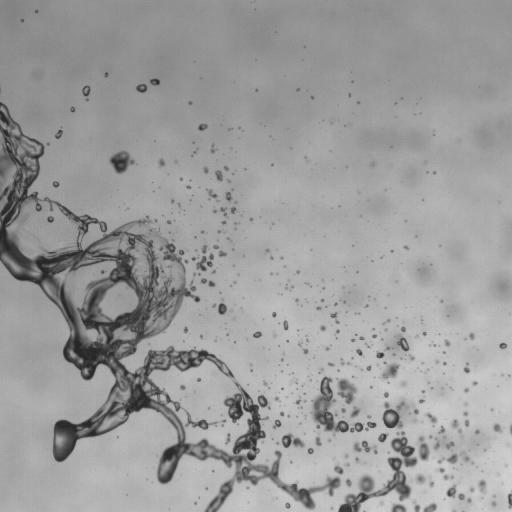droplet: (109, 150, 136, 174), (335, 376, 357, 404), (379, 360, 400, 383), (446, 481, 459, 498), (217, 298, 227, 314), (477, 479, 487, 494), (390, 502, 406, 511), (422, 502, 437, 511), (377, 432, 388, 443), (9, 109, 20, 120), (214, 183, 225, 194), (49, 189, 60, 200), (185, 261, 196, 272), (290, 274, 301, 285), (55, 313, 66, 324), (60, 327, 71, 338), (340, 328, 351, 339), (136, 340, 147, 351), (153, 340, 164, 351), (430, 347, 441, 358), (364, 350, 375, 361), (383, 353, 394, 364), (134, 355, 145, 366), (125, 360, 136, 371), (375, 361, 386, 372), (95, 363, 106, 374), (339, 368, 350, 379), (104, 373, 115, 384), (278, 374, 289, 385), (377, 380, 388, 391), (333, 395, 344, 406), (302, 401, 313, 412), (285, 402, 296, 413), (267, 408, 278, 419), (398, 409, 409, 420), (69, 413, 80, 424), (259, 420, 270, 431), (375, 422, 386, 433), (422, 422, 433, 433), (368, 427, 379, 438), (386, 427, 397, 438), (445, 427, 456, 438), (318, 428, 329, 439), (352, 431, 363, 442), (303, 436, 314, 447), (377, 452, 388, 463), (178, 453, 189, 464), (425, 456, 436, 467), (224, 466, 235, 477), (383, 467, 394, 478), (278, 471, 289, 482), (260, 476, 271, 487), (372, 479, 383, 490), (349, 484, 360, 495), (208, 486, 219, 497), (334, 486, 345, 497), (388, 489, 399, 500), (280, 491, 291, 502), (434, 494, 445, 505), (401, 497, 412, 508), (492, 423, 504, 433), (136, 83, 147, 93), (219, 206, 228, 218), (272, 419, 281, 429), (445, 441, 454, 451), (215, 170, 223, 181), (107, 147, 116, 156), (226, 213, 235, 222), (202, 269, 211, 278), (290, 288, 299, 297), (285, 290, 294, 299), (181, 295, 190, 304), (388, 337, 397, 346), (406, 337, 415, 346), (354, 339, 363, 348), (174, 342, 183, 351), (323, 367, 332, 376), (329, 381, 338, 390), (311, 388, 320, 397), (423, 391, 432, 400), (351, 397, 360, 406), (344, 403, 353, 412), (139, 406, 148, 415), (257, 406, 266, 415), (417, 411, 426, 420), (356, 413, 365, 422), (346, 416, 355, 425), (499, 420, 508, 429), (277, 426, 286, 435), (168, 436, 177, 445), (425, 438, 434, 447), (450, 445, 459, 454), (427, 448, 436, 457), (411, 449, 420, 458), (317, 476, 326, 485), (443, 479, 452, 488), (231, 481, 240, 490), (284, 493, 293, 502), (483, 493, 492, 502), (449, 495, 458, 504), (358, 501, 367, 510), (463, 362, 470, 373), (290, 376, 298, 385), (210, 143, 217, 153), (217, 505, 228, 511), (297, 505, 308, 511), (499, 505, 510, 511), (150, 78, 159, 85), (198, 123, 207, 130), (158, 158, 165, 167), (225, 192, 232, 201), (253, 331, 262, 338), (438, 425, 445, 434), (230, 206, 237, 214), (499, 342, 507, 349), (398, 380, 406, 387), (364, 342, 373, 348), (345, 478, 351, 487), (283, 320, 288, 330), (307, 447, 314, 454), (458, 493, 465, 500), (107, 163, 114, 170), (125, 163, 132, 170), (120, 170, 127, 177), (26, 187, 33, 194), (218, 192, 225, 199), (225, 201, 232, 208), (74, 209, 81, 216), (158, 217, 165, 224), (160, 230, 167, 237), (218, 232, 225, 239), (211, 248, 218, 255), (184, 274, 191, 281), (23, 279, 30, 286), (193, 279, 200, 286), (31, 282, 38, 289), (364, 334, 371, 341), (59, 338, 66, 345), (289, 338, 296, 345), (383, 350, 390, 357), (438, 354, 445, 361), (119, 357, 126, 364), (333, 360, 340, 367), (67, 362, 74, 369), (380, 364, 387, 371), (337, 372, 344, 379), (347, 377, 354, 384), (468, 384, 475, 391), (266, 395, 273, 402), (388, 402, 395, 409), (415, 402, 422, 409), (327, 405, 334, 412), (129, 410, 136, 417), (57, 413, 64, 420), (80, 414, 87, 421), (352, 415, 359, 422), (332, 416, 339, 423), (310, 419, 317, 426), (457, 420, 464, 427), (47, 422, 54, 429), (443, 422, 450, 429), (468, 423, 475, 430), (382, 426, 389, 433), (325, 429, 332, 436), (86, 435, 93, 442), (384, 436, 391, 443), (75, 438, 82, 445), (255, 438, 262, 445), (406, 439, 413, 446), (439, 439, 446, 446), (309, 441, 316, 448), (277, 444, 284, 451), (300, 446, 307, 453), (46, 449, 53, 456), (156, 449, 163, 456), (444, 450, 451, 457), (394, 451, 401, 458), (67, 452, 74, 459), (347, 455, 354, 462), (456, 455, 463, 462), (206, 456, 213, 463), (216, 458, 223, 465), (251, 458, 258, 465), (441, 460, 448, 467), (266, 461, 273, 468), (399, 464, 406, 471), (172, 470, 179, 477), (330, 470, 337, 477), (150, 473, 157, 480), (338, 473, 345, 480), (476, 473, 483, 480), (243, 479, 250, 486), (471, 480, 478, 487), (484, 482, 491, 489), (408, 490, 415, 497), (463, 490, 470, 497), (309, 492, 316, 499), (225, 494, 232, 501), (338, 497, 345, 504), (385, 503, 392, 510), (46, 216, 54, 222), (506, 340, 511, 349), (405, 506, 414, 511), (488, 506, 497, 511), (52, 181, 59, 187), (444, 339, 450, 346), (408, 354, 414, 361), (318, 367, 324, 374), (273, 396, 280, 402), (469, 485, 475, 492), (234, 222, 239, 230), (428, 342, 436, 347), (464, 419, 469, 427), (320, 325, 326, 331), (491, 501, 497, 507), (212, 206, 217, 213), (183, 326, 188, 333), (70, 106, 75, 112), (370, 161, 375, 167), (203, 167, 208, 173), (403, 245, 409, 250), (316, 306, 322, 311), (462, 411, 468, 416), (478, 495, 484, 500), (379, 500, 384, 506), (285, 502, 290, 508), (401, 325, 405, 332), (471, 381, 478, 385), (224, 166, 229, 171), (221, 220, 226, 225), (264, 248, 269, 253), (366, 365, 371, 370), (180, 385, 185, 390), (464, 387, 469, 392), (384, 392, 389, 397), (341, 408, 346, 413), (279, 411, 284, 416), (474, 429, 479, 434), (137, 79, 142, 84), (145, 81, 150, 86), (87, 93, 92, 98), (18, 121, 23, 126), (193, 123, 198, 128), (202, 128, 207, 133), (198, 129, 203, 134), (36, 136, 41, 141), (41, 140, 46, 145), (43, 146, 48, 151), (37, 156, 42, 161), (163, 158, 168, 163), (154, 161, 159, 166), (160, 165, 165, 170), (228, 167, 233, 172), (38, 168, 43, 173), (220, 169, 225, 174), (203, 191, 208, 196), (230, 192, 235, 197), (36, 193, 41, 198), (49, 195, 54, 200), (172, 201, 177, 206), (215, 205, 220, 210), (68, 206, 73, 211), (225, 208, 230, 213), (89, 212, 94, 217), (139, 214, 144, 219), (148, 214, 153, 219), (167, 215, 172, 220), (220, 215, 225, 220), (97, 216, 102, 221), (148, 222, 153, 227), (218, 223, 223, 228), (105, 229, 110, 234), (216, 241, 221, 246), (191, 251, 196, 256), (198, 251, 203, 256), (204, 252, 209, 257), (265, 252, 270, 257), (180, 254, 185, 259), (273, 255, 278, 260), (195, 257, 200, 262), (280, 259, 285, 264), (196, 267, 201, 272), (3, 268, 8, 273), (9, 275, 14, 280), (233, 275, 238, 280), (319, 281, 324, 286), (184, 283, 189, 288), (208, 285, 213, 290), (279, 287, 284, 292), (190, 290, 195, 295), (40, 292, 45, 297), (198, 294, 203, 299), (215, 299, 220, 304), (222, 299, 227, 304), (49, 301, 54, 306), (317, 301, 322, 306), (337, 301, 342, 306), (225, 304, 230, 309), (213, 306, 218, 311), (224, 309, 229, 314), (218, 313, 223, 318), (335, 314, 340, 319), (168, 322, 173, 327), (384, 322, 389, 327), (278, 323, 283, 328), (334, 323, 339, 328), (315, 326, 320, 331), (164, 327, 169, 332), (250, 328, 255, 333), (318, 329, 323, 334), (322, 329, 327, 334), (372, 329, 377, 334), (158, 331, 163, 336), (401, 332, 406, 337), (473, 332, 478, 337), (418, 333, 423, 338), (256, 336, 261, 341), (394, 336, 399, 341), (447, 336, 452, 341), (439, 340, 444, 345), (301, 343, 306, 348), (396, 345, 401, 350), (442, 345, 447, 350), (184, 346, 189, 351), (195, 346, 200, 351), (360, 347, 365, 352), (501, 347, 506, 352), (206, 348, 211, 353), (406, 349, 411, 354), (58, 351, 63, 356), (215, 353, 220, 358), (343, 357, 348, 362), (378, 357, 383, 362), (411, 359, 416, 364), (280, 361, 285, 366), (437, 361, 442, 366), (460, 362, 465, 367), (420, 364, 425, 369), (467, 364, 472, 369), (396, 367, 401, 372), (75, 368, 80, 373), (460, 370, 465, 375), (317, 375, 322, 380), (387, 376, 392, 381), (84, 379, 89, 384), (297, 379, 302, 384), (315, 382, 320, 387), (443, 385, 448, 390), (400, 386, 405, 391), (424, 386, 429, 391), (105, 387, 110, 392), (246, 389, 251, 394), (352, 392, 357, 397), (263, 393, 268, 398), (418, 393, 423, 398), (300, 394, 305, 399), (384, 396, 389, 401), (404, 398, 409, 403), (252, 399, 257, 404), (298, 400, 303, 405), (381, 406, 386, 411), (462, 406, 467, 411), (408, 407, 413, 412), (430, 410, 435, 415), (410, 412, 415, 417), (289, 414, 294, 419), (465, 414, 470, 419), (277, 415, 282, 420), (298, 415, 303, 420), (398, 416, 403, 421), (448, 416, 453, 421), (369, 417, 374, 422), (425, 417, 430, 422), (468, 420, 473, 425), (166, 421, 171, 426), (498, 421, 503, 426), (117, 424, 122, 429), (488, 424, 493, 429), (259, 425, 264, 430), (435, 425, 440, 430), (400, 426, 405, 431), (504, 426, 509, 431), (112, 427, 117, 432), (452, 427, 457, 432), (478, 427, 483, 432), (360, 428, 365, 433), (345, 429, 350, 434), (106, 430, 111, 435), (336, 430, 341, 435), (493, 430, 498, 435), (416, 431, 421, 436), (312, 432, 317, 437), (403, 432, 408, 437), (477, 432, 482, 437), (298, 435, 303, 440), (276, 436, 281, 441), (319, 437, 324, 442), (444, 438, 449, 443), (376, 440, 381, 445), (367, 441, 372, 446), (289, 442, 294, 447), (303, 444, 308, 449), (368, 449, 373, 454), (353, 450, 358, 455), (465, 451, 470, 456), (272, 454, 277, 459), (49, 455, 54, 460), (469, 455, 474, 460), (416, 457, 421, 462), (54, 460, 59, 465), (465, 460, 470, 465), (329, 463, 334, 468), (341, 465, 346, 470), (438, 472, 443, 477), (424, 478, 429, 483), (484, 479, 489, 484), (474, 485, 479, 490), (323, 487, 328, 492), (442, 487, 447, 492), (441, 490, 446, 495), (454, 490, 459, 495), (208, 495, 213, 500), (378, 495, 383, 500), (445, 495, 450, 500), (192, 496, 197, 501), (462, 497, 467, 502), (503, 497, 508, 502), (334, 505, 339, 510), (358, 336, 364, 340), (328, 362, 334, 366), (344, 462, 350, 466), (467, 497, 471, 503), (0, 131, 3, 138), (0, 262, 3, 269), (104, 72, 108, 77), (186, 185, 191, 189), (170, 198, 174, 203), (166, 220, 171, 224), (295, 270, 300, 274), (272, 312, 276, 317), (422, 331, 426, 336), (372, 334, 377, 338), (414, 334, 419, 338), (350, 338, 355, 342), (344, 453, 348, 458), (249, 217, 253, 221), (320, 298, 324, 302), (272, 333, 276, 337), (442, 361, 446, 365), (463, 402, 467, 406), (367, 414, 371, 418), (442, 435, 446, 439), (177, 202, 180, 207), (270, 255, 273, 260), (364, 304, 369, 307), (214, 337, 217, 342), (196, 378, 201, 381), (216, 508, 221, 511), (284, 508, 289, 511), (418, 508, 423, 511), (433, 508, 438, 511), (456, 508, 461, 511), (348, 93, 351, 97), (310, 96, 314, 99), (432, 171, 436, 174), (179, 177, 183, 180), (227, 179, 231, 182), (200, 230, 204, 233), (390, 249, 393, 253), (233, 280, 236, 284), (212, 303, 215, 307), (334, 302, 337, 306), (442, 351, 446, 354), (435, 360, 439, 363), (375, 363, 379, 366), (328, 438, 331, 442), (194, 501, 197, 505), (200, 334, 202, 339), (35, 10, 38, 13), (20, 19, 23, 22), (296, 88, 299, 91), (188, 101, 191, 104), (46, 142, 49, 145), (174, 160, 177, 163), (270, 163, 273, 166), (438, 244, 441, 247), (280, 256, 283, 259), (270, 272, 273, 275), (322, 286, 325, 289), (440, 299, 443, 302), (230, 309, 233, 312), (384, 328, 387, 331), (286, 339, 289, 342), (392, 353, 395, 356), (421, 361, 424, 364), (249, 363, 252, 366), (337, 369, 340, 372), (490, 408, 493, 411), (287, 414, 290, 417), (429, 435, 432, 438), (483, 448, 486, 451), (332, 457, 335, 460), (211, 469, 214, 472), (246, 486, 249, 489), (492, 494, 495, 497), (330, 506, 333, 509), (34, 6, 37, 9), (31, 9, 34, 12), (37, 9, 40, 12), (34, 12, 37, 15), (20, 15, 23, 18), (23, 18, 26, 21), (17, 19, 20, 22), (20, 21, 23, 24), (107, 71, 110, 74), (101, 72, 104, 75), (156, 76, 159, 79), (158, 80, 161, 83), (83, 82, 86, 85), (80, 84, 83, 87), (155, 84, 158, 87), (294, 85, 297, 88), (0, 87, 3, 90), (252, 87, 255, 90), (257, 87, 260, 90), (136, 90, 139, 93), (256, 90, 259, 93), (296, 90, 299, 93), (310, 92, 313, 95), (345, 93, 348, 96), (350, 93, 353, 96), (83, 95, 86, 98), (308, 97, 311, 100), (356, 97, 359, 100), (189, 98, 192, 101), (1, 100, 4, 103), (86, 100, 89, 103), (359, 100, 362, 103), (186, 103, 189, 106), (190, 103, 193, 106), (356, 103, 359, 106), (394, 103, 397, 106), (6, 105, 9, 108), (73, 105, 76, 108), (67, 108, 70, 111), (71, 111, 74, 114), (228, 124, 231, 127), (240, 126, 243, 129), (60, 127, 63, 130), (55, 128, 58, 131), (229, 129, 232, 132), (238, 129, 241, 132), (21, 130, 24, 133), (60, 134, 63, 137), (29, 135, 32, 138), (432, 135, 435, 138), (52, 136, 55, 139), (208, 145, 211, 148), (192, 147, 195, 150), (207, 149, 210, 152), (189, 150, 192, 153), (214, 150, 217, 153), (192, 153, 195, 156), (306, 156, 309, 159), (133, 160, 136, 163), (269, 160, 272, 163), (273, 163, 276, 166), (226, 164, 229, 167), (243, 164, 246, 167), (200, 168, 203, 171), (429, 170, 432, 173), (433, 173, 436, 176), (213, 174, 216, 177), (176, 177, 179, 180), (56, 179, 59, 182), (188, 182, 191, 185), (57, 185, 60, 188), (52, 186, 55, 189), (183, 186, 186, 189), (207, 186, 210, 189), (186, 188, 189, 191), (227, 188, 230, 191), (189, 195, 192, 198), (210, 196, 213, 199), (423, 198, 426, 201), (167, 199, 170, 202), (179, 202, 182, 205), (233, 203, 236, 206), (210, 207, 213, 210), (180, 209, 183, 212), (233, 210, 236, 213), (220, 211, 223, 214), (145, 212, 148, 215), (212, 212, 215, 215), (246, 216, 249, 219), (135, 217, 138, 220), (126, 219, 129, 222), (156, 219, 159, 222), (235, 219, 238, 222), (251, 219, 254, 222), (170, 220, 173, 223), (248, 220, 251, 223), (121, 221, 124, 224), (268, 222, 271, 225), (167, 223, 170, 226), (222, 223, 225, 226), (235, 224, 238, 227), (199, 227, 202, 230), (214, 229, 217, 232), (219, 231, 222, 234), (198, 232, 201, 235), (228, 235, 231, 238), (168, 240, 171, 243), (406, 244, 409, 247), (264, 245, 267, 248), (389, 246, 392, 249), (268, 247, 271, 250), (182, 248, 185, 251), (403, 248, 406, 251), (222, 249, 225, 252), (262, 249, 265, 252), (388, 251, 391, 254), (391, 251, 394, 254), (278, 253, 281, 256), (378, 253, 381, 256), (220, 255, 223, 258), (282, 255, 285, 258), (382, 255, 385, 258), (268, 258, 271, 261), (379, 258, 382, 261), (180, 259, 183, 262), (283, 267, 286, 270), (298, 267, 301, 270), (342, 267, 345, 270), (215, 269, 218, 272), (292, 270, 295, 273), (299, 270, 302, 273), (272, 272, 275, 275), (295, 273, 298, 276), (211, 279, 214, 282), (284, 279, 287, 282), (305, 279, 308, 282), (230, 281, 233, 284), (191, 282, 194, 285), (282, 283, 285, 286), (287, 283, 290, 286), (293, 284, 296, 287), (305, 284, 308, 287), (311, 284, 314, 287), (324, 285, 327, 288), (228, 286, 231, 289), (291, 287, 294, 290), (220, 289, 223, 292), (285, 289, 288, 292), (321, 289, 324, 292), (293, 295, 296, 298), (321, 295, 324, 298), (369, 296, 372, 299), (439, 296, 442, 299), (341, 297, 344, 300), (291, 298, 294, 301), (436, 299, 439, 302), (297, 300, 300, 303), (345, 300, 348, 303), (365, 300, 368, 303), (442, 300, 445, 303), (195, 301, 198, 304), (293, 301, 296, 304), (331, 301, 334, 304), (209, 302, 212, 305), (362, 302, 365, 305), (439, 302, 442, 305), (365, 306, 368, 309), (272, 308, 275, 311), (316, 309, 319, 312), (355, 309, 358, 312), (331, 310, 334, 313), (359, 311, 362, 314), (275, 313, 278, 316), (327, 313, 330, 316), (355, 313, 358, 316), (269, 314, 272, 317), (421, 316, 424, 319), (331, 317, 334, 320), (383, 318, 386, 321), (389, 319, 392, 322), (417, 319, 420, 322), (170, 320, 173, 323), (422, 320, 425, 323), (223, 324, 226, 327), (371, 324, 374, 327), (296, 325, 299, 328), (398, 325, 401, 328), (181, 326, 184, 329), (186, 326, 189, 329), (287, 326, 290, 329), (257, 328, 260, 331), (404, 328, 407, 331), (422, 328, 425, 331), (225, 329, 228, 332), (284, 329, 287, 332), (332, 329, 335, 332), (186, 330, 189, 333), (260, 330, 263, 333), (294, 330, 297, 333), (297, 330, 300, 333), (354, 330, 357, 333), (435, 330, 438, 333), (425, 331, 428, 334), (228, 332, 231, 335), (335, 333, 338, 336), (435, 333, 438, 336), (196, 334, 199, 337), (202, 334, 205, 337), (424, 334, 427, 337), (225, 335, 228, 338), (352, 335, 355, 338), (307, 336, 310, 339), (216, 337, 219, 340), (372, 337, 375, 340), (405, 337, 408, 340), (288, 338, 291, 341), (302, 338, 305, 341), (230, 339, 233, 342), (359, 339, 362, 342), (235, 340, 238, 343), (283, 340, 286, 343), (428, 340, 431, 343), (433, 340, 436, 343), (498, 340, 501, 343), (504, 340, 507, 343), (294, 341, 297, 344), (367, 342, 370, 345), (386, 343, 389, 346), (496, 343, 499, 346), (279, 344, 282, 347), (430, 344, 433, 347), (435, 344, 438, 347), (408, 345, 411, 348), (323, 349, 326, 352), (327, 349, 330, 352), (379, 349, 382, 352), (307, 350, 310, 353), (361, 351, 364, 354), (439, 351, 442, 354), (355, 352, 358, 355), (373, 352, 376, 355), (280, 354, 283, 357), (277, 357, 280, 360), (349, 359, 352, 362), (278, 360, 281, 363), (330, 360, 333, 363), (366, 362, 369, 365), (343, 363, 346, 366), (442, 364, 445, 367), (250, 365, 253, 368), (328, 365, 331, 368), (427, 365, 430, 368), (370, 366, 373, 369), (363, 367, 366, 370), (246, 368, 249, 371), (252, 368, 255, 371), (416, 368, 419, 371), (230, 369, 233, 372), (282, 370, 285, 373), (288, 370, 291, 373), (293, 370, 296, 373), (366, 370, 369, 373), (426, 370, 429, 373), (249, 371, 252, 374), (278, 371, 281, 374), (420, 371, 423, 374), (292, 373, 295, 376), (289, 374, 292, 377), (326, 374, 329, 377), (504, 374, 507, 377), (309, 375, 312, 378), (474, 378, 477, 381), (265, 379, 268, 382), (260, 380, 263, 383), (292, 382, 295, 385), (369, 382, 372, 385), (267, 383, 270, 386), (428, 383, 431, 386), (447, 383, 450, 386), (475, 383, 478, 386), (298, 385, 301, 388), (366, 385, 369, 388), (372, 385, 375, 388), (451, 385, 454, 388), (283, 386, 286, 389), (421, 386, 424, 389), (461, 387, 464, 390), (431, 388, 434, 391), (448, 388, 451, 391), (280, 389, 283, 392), (302, 389, 305, 392), (381, 390, 384, 393), (387, 391, 390, 394), (423, 391, 426, 394), (465, 391, 468, 394), (257, 392, 260, 395), (380, 393, 383, 396), (278, 396, 281, 399), (295, 396, 298, 399), (421, 401, 424, 404), (294, 403, 297, 406), (487, 406, 490, 409), (492, 406, 495, 409), (279, 408, 282, 411), (299, 408, 302, 411), (488, 410, 491, 413), (157, 411, 160, 414), (283, 412, 286, 415), (301, 421, 304, 424), (442, 424, 445, 427), (275, 426, 278, 429), (475, 426, 478, 429), (442, 431, 445, 434), (439, 432, 442, 435), (453, 441, 456, 444), (449, 445, 452, 448), (376, 448, 379, 451), (486, 448, 489, 451), (309, 453, 312, 456), (291, 458, 294, 461), (289, 463, 292, 466), (472, 463, 475, 466), (210, 471, 213, 474), (442, 471, 445, 474), (433, 482, 436, 485), (203, 484, 206, 487), (202, 488, 205, 491), (480, 492, 483, 495), (492, 497, 495, 500), (190, 501, 193, 504), (282, 504, 285, 507), (508, 508, 511, 511), (228, 128, 232, 130), (302, 392, 306, 394), (255, 88, 257, 91), (238, 126, 240, 129), (432, 133, 435, 135), (231, 188, 233, 191), (234, 201, 237, 203), (126, 207, 129, 209), (171, 239, 174, 241), (310, 248, 312, 251), (380, 256, 383, 258), (283, 265, 286, 267), (237, 273, 239, 276), (230, 284, 232, 287), (345, 310, 347, 313), (297, 329, 300, 331), (226, 333, 228, 336), (438, 333, 441, 335), (380, 338, 383, 340), (282, 352, 284, 355), (281, 358, 283, 361), (250, 369, 252, 372), (501, 374, 504, 376), (508, 374, 510, 377), (427, 381, 430, 383), (370, 385, 372, 388), (281, 387, 283, 390), (430, 387, 433, 389), (208, 406, 210, 409), (298, 422, 301, 424), (290, 460, 292, 463), (504, 464, 507, 466), (205, 487, 207, 490), (509, 372, 511, 375), (509, 375, 511, 378), (351, 80, 353, 82), (357, 101, 359, 103), (394, 102, 396, 104), (192, 141, 194, 143), (244, 168, 246, 170), (426, 171, 428, 173), (189, 179, 191, 181), (384, 189, 386, 191), (200, 205, 202, 207), (338, 205, 340, 207), (240, 214, 242, 216), (272, 222, 274, 224), (168, 231, 170, 233), (415, 235, 417, 237), (194, 236, 196, 238), (352, 244, 354, 246), (195, 249, 197, 251), (232, 248, 234, 250), (371, 260, 373, 262), (232, 264, 234, 266), (356, 271, 358, 273), (276, 272, 278, 274), (219, 291, 221, 293), (325, 305, 327, 307), (384, 306, 386, 308), (396, 316, 398, 318), (278, 322, 280, 324), (372, 328, 374, 330), (355, 333, 357, 335), (234, 341, 236, 343), (351, 357, 353, 359), (286, 363, 288, 365), (427, 368, 429, 370), (281, 370, 283, 372), (424, 371, 426, 373), (285, 396, 287, 398), (408, 412, 410, 414), (266, 459, 268, 461), (481, 470, 483, 472), (443, 498, 445, 500), (401, 97, 402, 99), (419, 112, 421, 113), (189, 199, 191, 200), (421, 199, 423, 200), (368, 295, 369, 297), (300, 305, 302, 306), (443, 372, 444, 374), (296, 388, 298, 389), (279, 405, 280, 407), (304, 432, 305, 434), (117, 436, 118, 438), (271, 438, 273, 439), (276, 497, 277, 499), (152, 190, 153, 191), (217, 240, 218, 241), (183, 340, 184, 341), (313, 356, 314, 357), (247, 384, 248, 385), (198, 497, 199, 498)
ligament: (437, 449, 474, 464), (275, 432, 305, 448), (353, 440, 378, 454), (450, 419, 464, 441), (394, 333, 409, 351), (435, 467, 454, 480), (376, 344, 393, 358), (212, 244, 227, 257), (424, 412, 437, 427), (298, 340, 308, 354), (200, 278, 215, 287), (82, 85, 90, 101), (354, 456, 367, 464), (54, 127, 62, 139), (340, 357, 352, 365), (315, 431, 321, 446), (419, 390, 425, 403), (433, 437, 439, 450), (507, 490, 511, 509), (356, 348, 364, 357), (262, 380, 270, 389), (225, 432, 231, 444), (191, 148, 198, 157), (381, 318, 390, 325), (354, 365, 363, 371), (304, 334, 309, 344), (334, 329, 339, 338), (339, 297, 346, 303), (304, 282, 311, 287), (294, 298, 298, 305), (211, 268, 216, 273), (217, 230, 225, 233), (226, 237, 232, 241), (307, 375, 311, 381), (509, 424, 511, 435), (289, 371, 294, 375), (400, 357, 406, 360), (451, 508, 457, 511), (421, 316, 423, 324), (304, 156, 307, 161), (351, 375, 356, 378), (304, 414, 306, 421), (301, 383, 305, 386), (0, 87, 2, 92), (278, 293, 282, 295), (497, 472, 499, 476), (242, 254, 244, 257), (461, 510, 465, 511), (446, 315, 449, 316), (295, 416, 298, 417), (363, 510, 366, 511)
